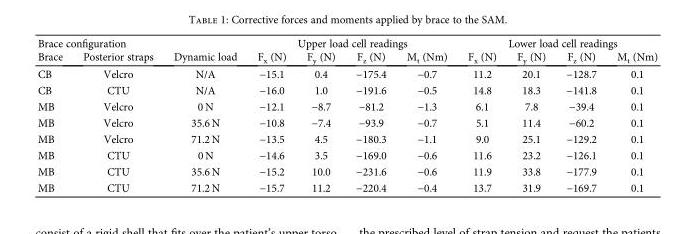table: (36, 36, 657, 195)
table column: (72, 36, 162, 195), (162, 36, 246, 195), (395, 36, 456, 195), (344, 36, 395, 195), (555, 36, 606, 195), (606, 36, 657, 195), (456, 36, 506, 195), (246, 36, 295, 195), (295, 36, 344, 195), (506, 36, 555, 195), (36, 36, 72, 195)
table column header: (36, 36, 657, 65)
table row: (36, 65, 657, 82), (36, 130, 657, 147), (36, 49, 657, 65), (36, 82, 657, 98), (36, 98, 657, 114), (36, 114, 657, 130), (36, 147, 657, 163), (36, 163, 657, 179), (36, 179, 657, 195), (36, 36, 657, 49)
table spanning cell: (36, 36, 246, 49), (246, 36, 456, 49), (456, 36, 657, 49)
